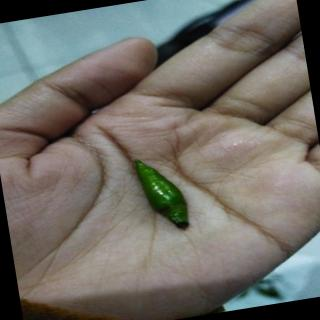Cabai Hijau: (127, 148, 202, 242)
